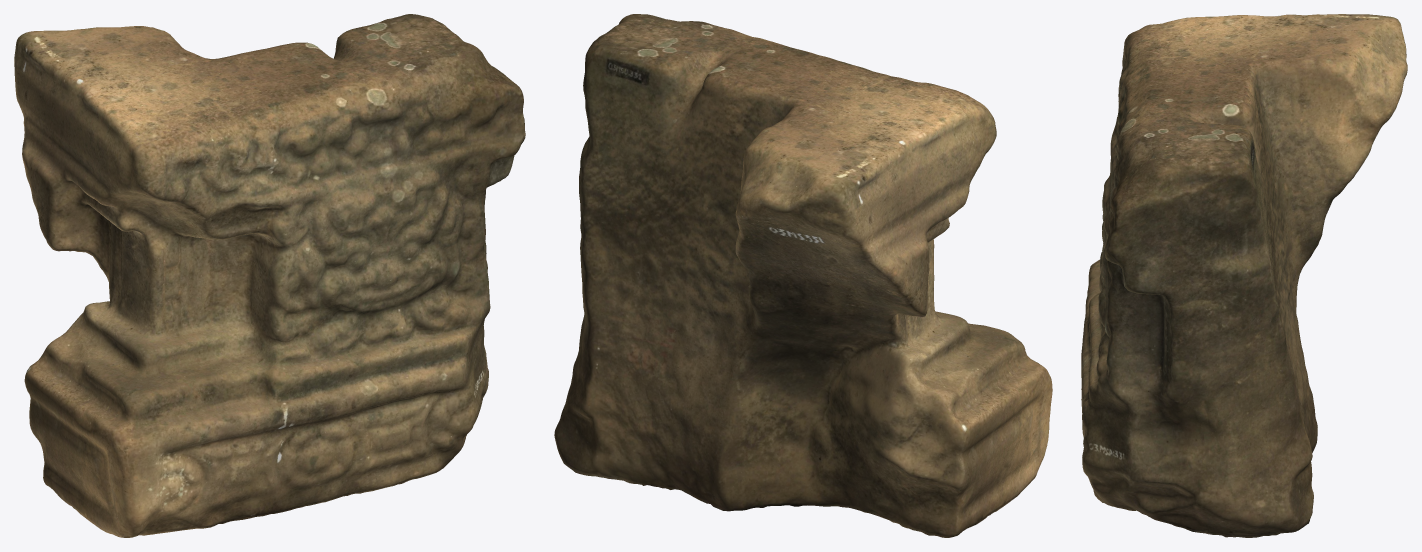
File: 38_MysonSanctuaryD2_Bophandaitho_final.glb
3 renders of one model, left to right at view 1: azimuth 30°, elevation 25°; view 2: azimuth 150°, elevation 25°; view 3: azimuth 270°, elevation 25°, orthographic. The views are drawn at different scales.
Bounding box in the file's own units: 0.4624 × 0.4187 × 0.3309.
1 material, 1 textured.
